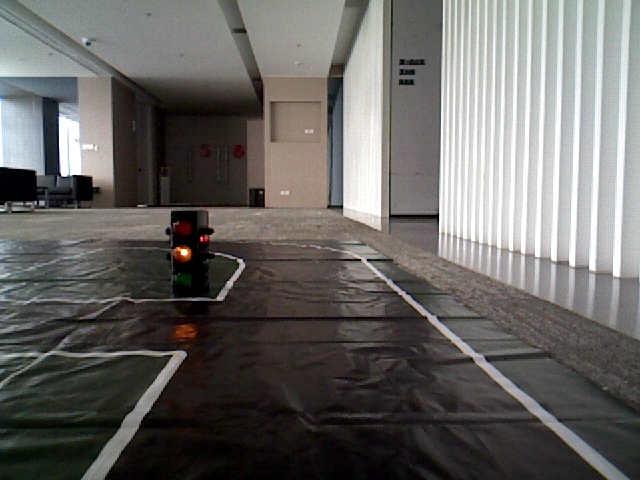yellow: (169, 213, 201, 291)
